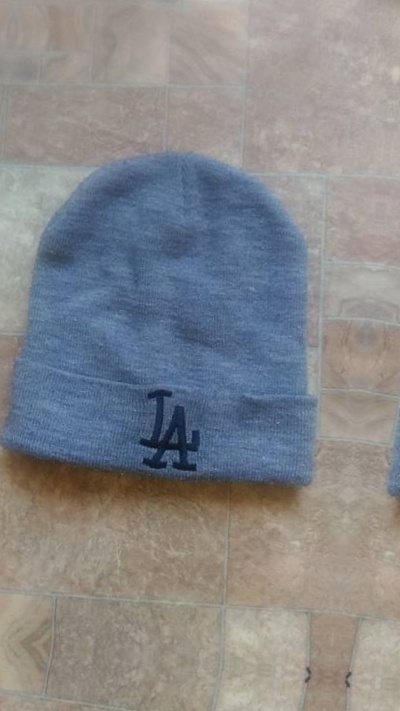Hat: (0, 130, 362, 526), (369, 173, 400, 569)
